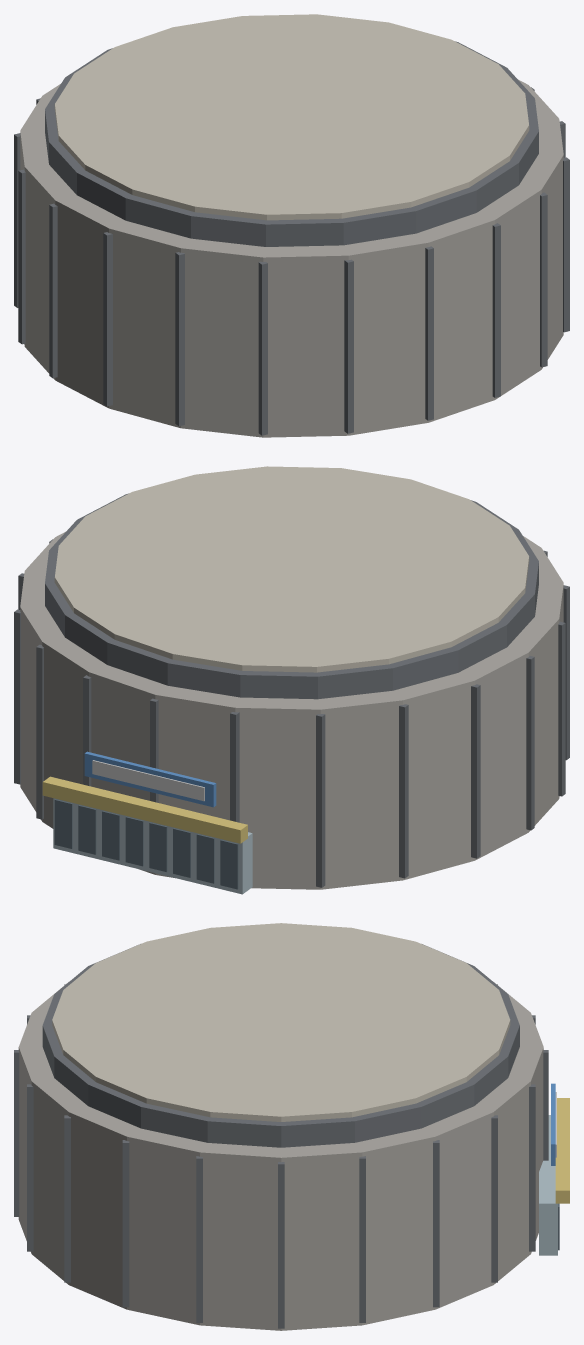
File: msg.glb
3 renders of one model, top to bottom at view 1: azimuth 30°, elevation 25°; view 2: azimuth 150°, elevation 25°; view 3: azimuth 270°, elevation 25°, orthographic. The views are drawn at different scales.
Visible parts, largest first — view 1: Mesh; view 2: Mesh; view 3: Mesh.
Part boxes in pixels (x1,y1,x2,y2): Mesh: (14, 14, 569, 437); Mesh: (14, 466, 569, 894); Mesh: (14, 923, 569, 1330).
Bounding box in the file's own units: 112 × 46.25 × 116.
